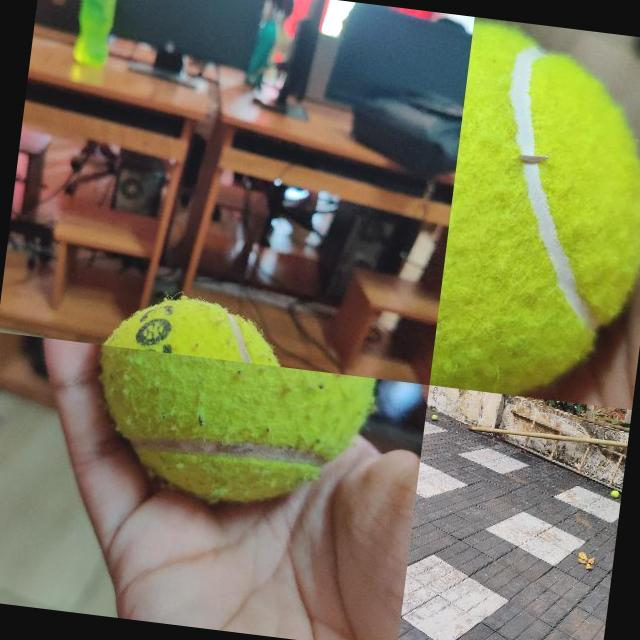Tennis Ball: (430, 23, 640, 407), (84, 344, 378, 518), (92, 288, 298, 367), (610, 489, 620, 498), (432, 413, 438, 420)
